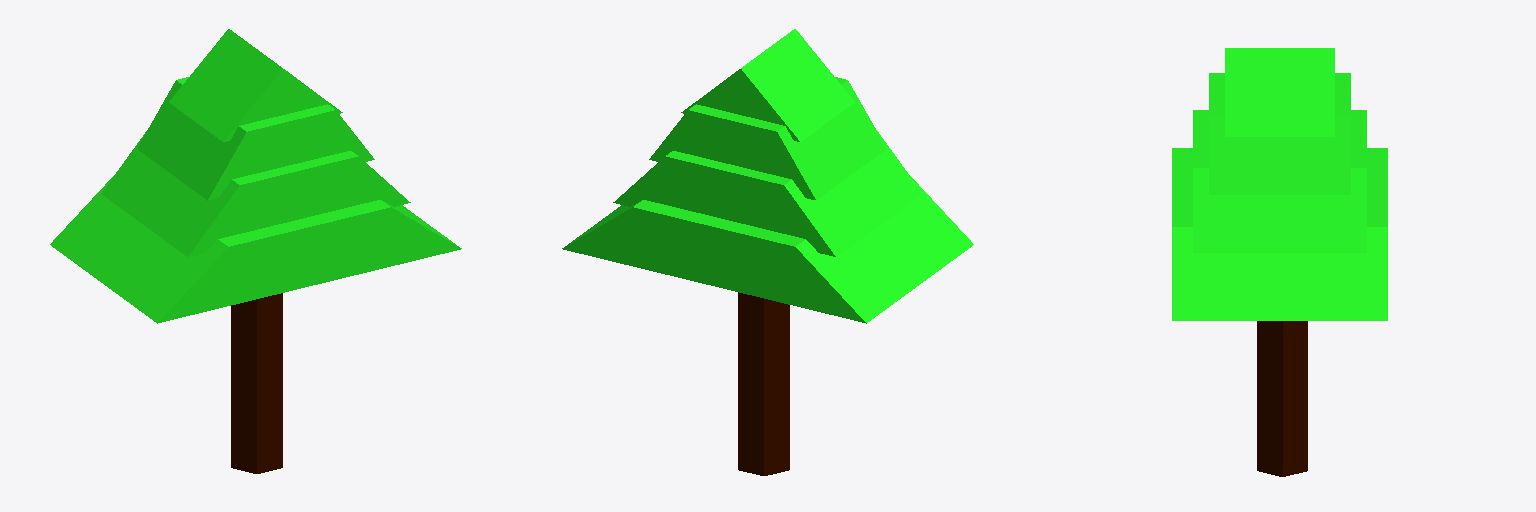
Rendered from Wood.obj.
3 renders of one model, left to right at view 1: azimuth 30°, elevation 25°; view 2: azimuth 150°, elevation 25°; view 3: azimuth 270°, elevation 25°, orthographic.
Parts seen in each view (by area): view 1: pCube5; view 2: pCube5; view 3: pCube5.
Boxes of the visible parts, x1,y1,x2,y2 form: pCube5: [50, 29, 461, 473]; pCube5: [562, 29, 973, 475]; pCube5: [1172, 48, 1387, 476].
Bounding box in the file's own units: 6.95 × 9.04 × 4.25.